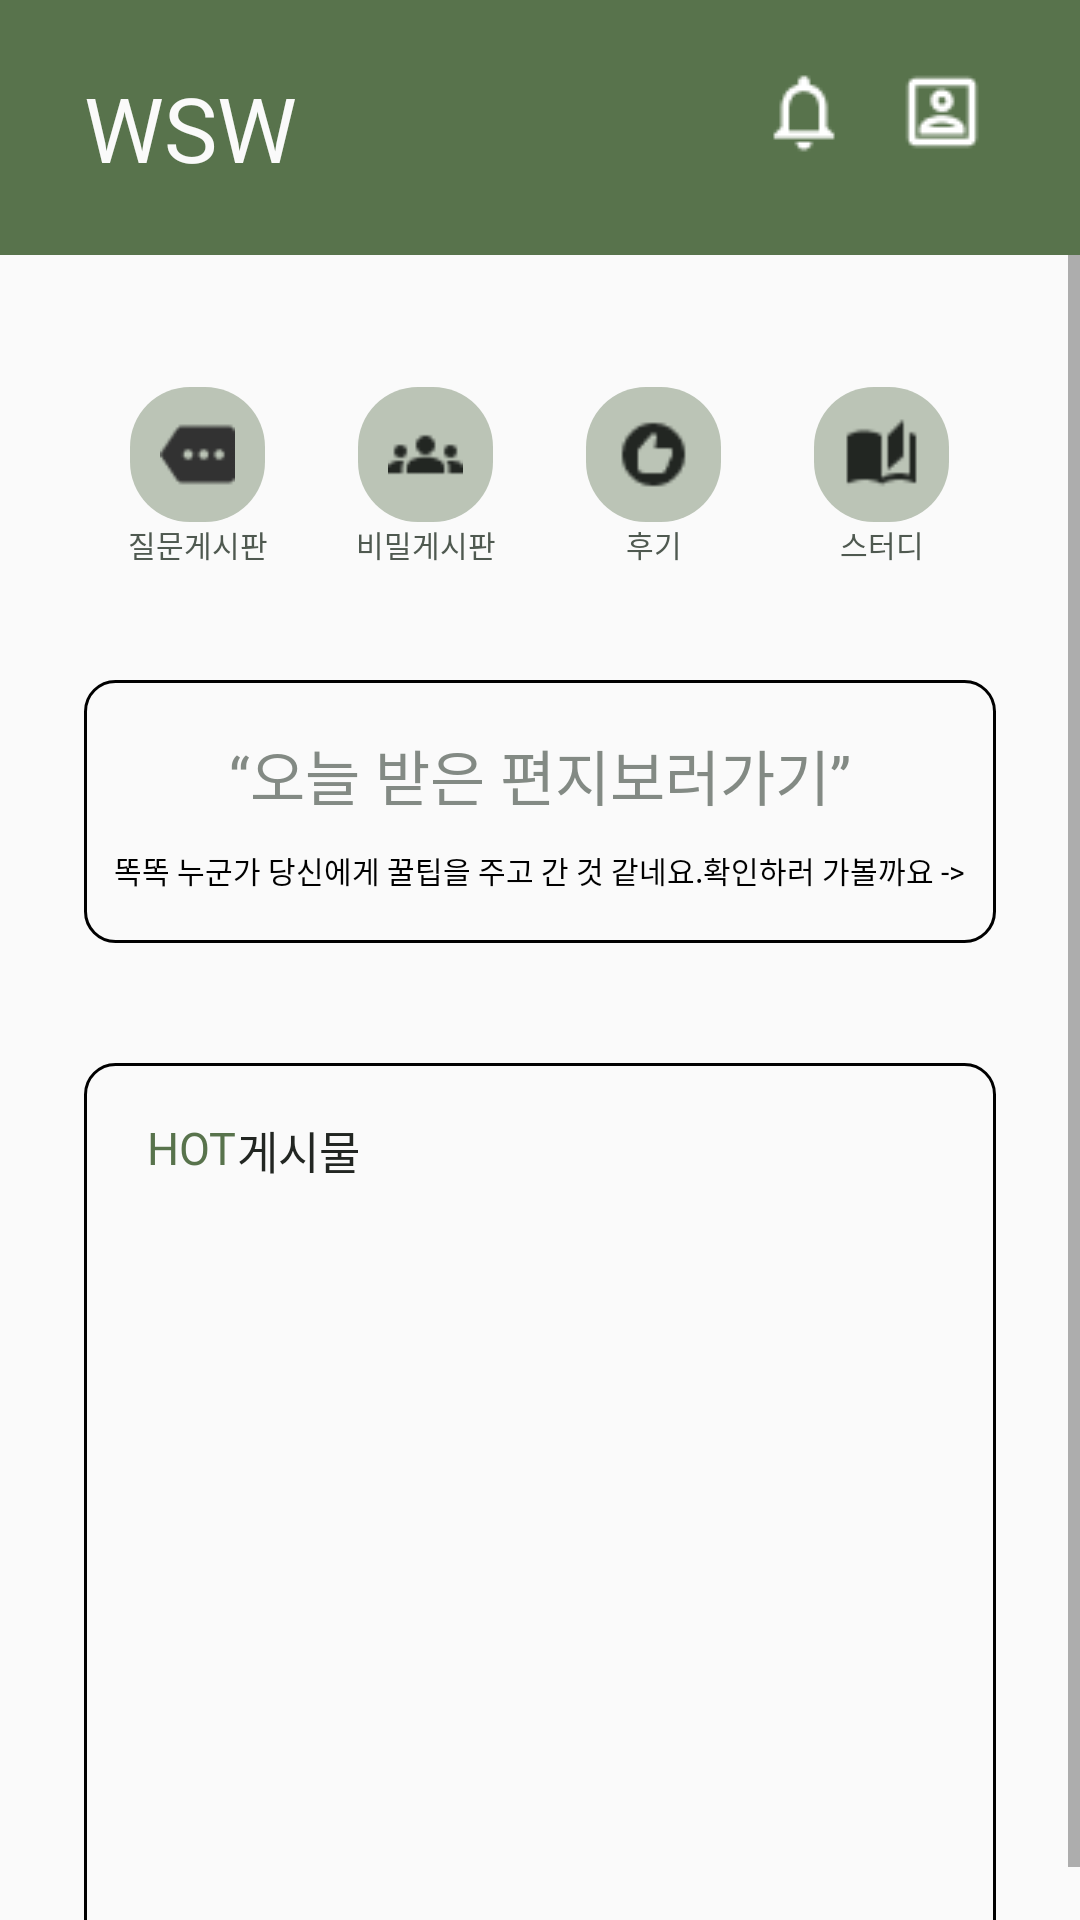

Named icons in this screenshot (1080w x 1920h) and their centers, point (x, y):
account: point (942, 112)
groups: point (425, 454)
notifications: point (804, 113)
